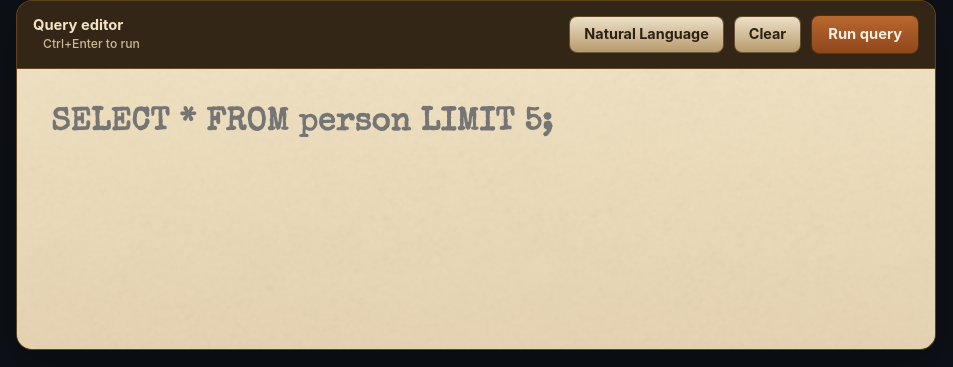
Editor Component (Natural Language) › toggles natural language mode
What coordinates should you click on to do the following:
click the button "Natural Language"
I would click on:
 (646, 34)
Its box is [569, 16, 724, 53].
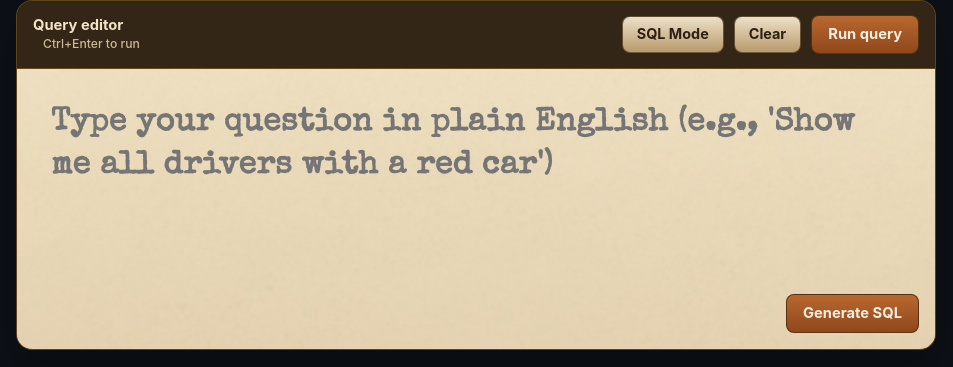
Check: the text box with placeholder "Type your question" is shown
Check: the button "SQL Mode" is shown, box [622, 16, 724, 53]
